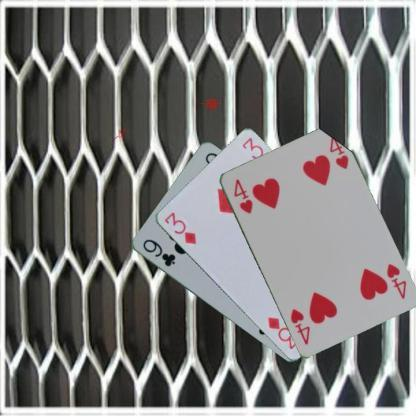3d: (161, 209, 197, 246)
4h: (384, 260, 408, 300), (231, 176, 254, 216)
9c: (140, 236, 177, 268)
